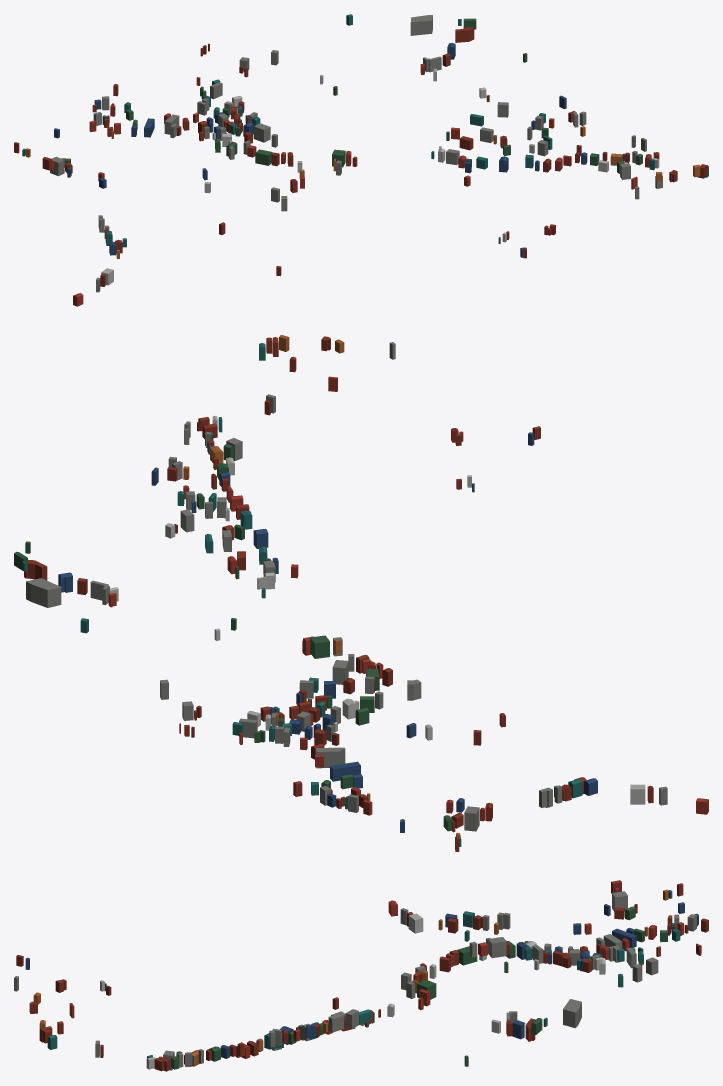
Rendered from near-15-27354-14867.ba3f4f16.glb.
3 views of the same model, one above another, from view 1: azimuth 30°, elevation 25°; view 2: azimuth 150°, elevation 25°; view 3: azimuth 270°, elevation 25° (orthographic). The views are drawn at different scales.
Size of the model in its own units: 1097 by 301 by 1167.
